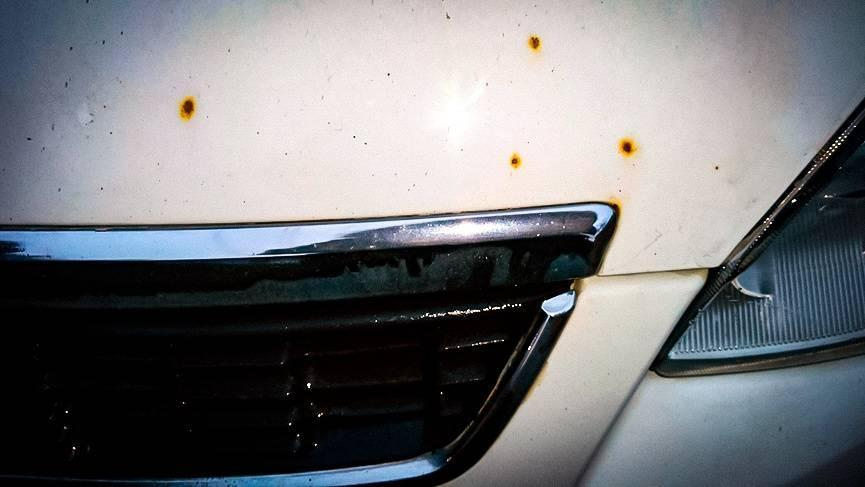corrosion: (168, 88, 208, 127), (613, 134, 645, 168), (520, 36, 554, 57), (505, 150, 530, 173)
